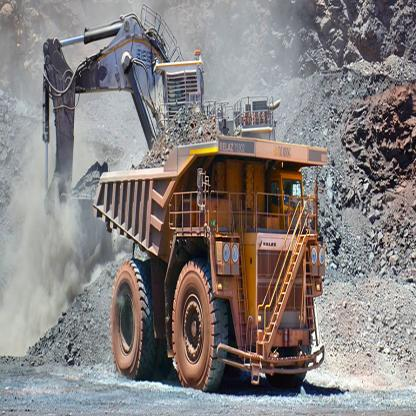dump_truck: (94, 135, 327, 392)
excavator: (24, 8, 287, 232)
